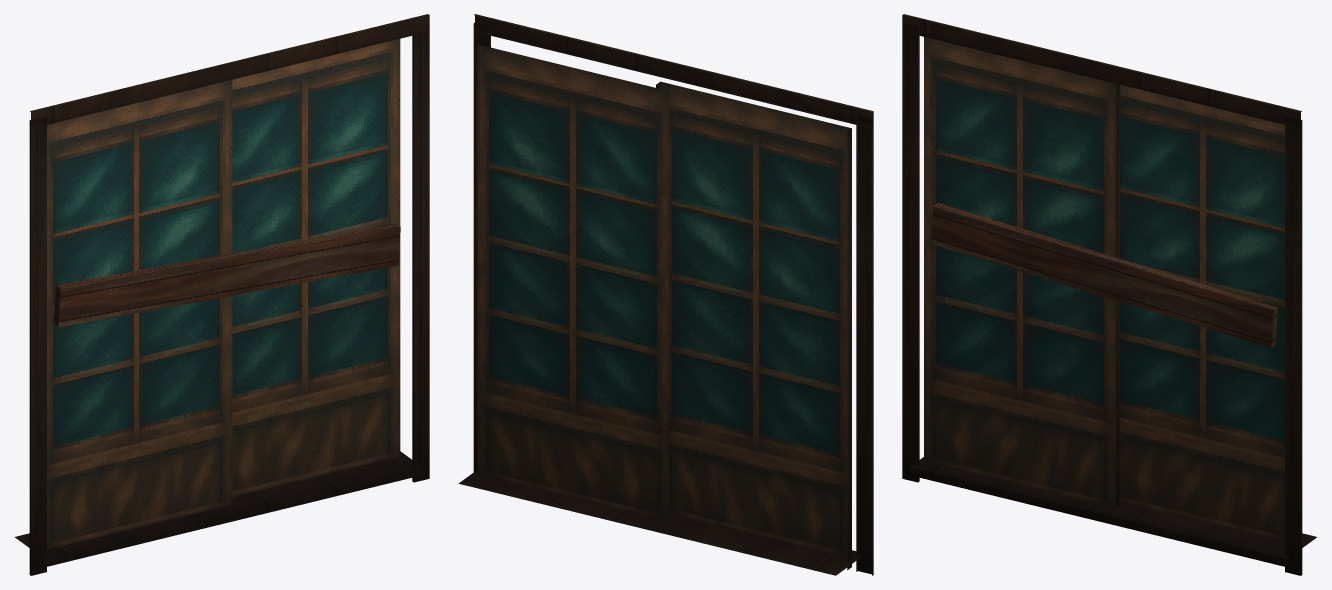
Rendered from prop_sash-14-16-5.glb.
3 renders of one model, left to right at view 1: azimuth 30°, elevation 25°; view 2: azimuth 150°, elevation 25°; view 3: azimuth 330°, elevation 25°, orthographic.
Visible parts, largest first — view 1: prop_sash-14-16-5; view 2: prop_sash-14-16-5; view 3: prop_sash-14-16-5.
Part boxes in pixels (left/top/right/bottom): prop_sash-14-16-5: left=15, top=14, right=429, bottom=575; prop_sash-14-16-5: left=459, top=14, right=873, bottom=575; prop_sash-14-16-5: left=902, top=14, right=1316, bottom=575.
Bounding box in the file's own units: 1.52 × 1.69 × 0.2.
3 materials, 3 textured.
